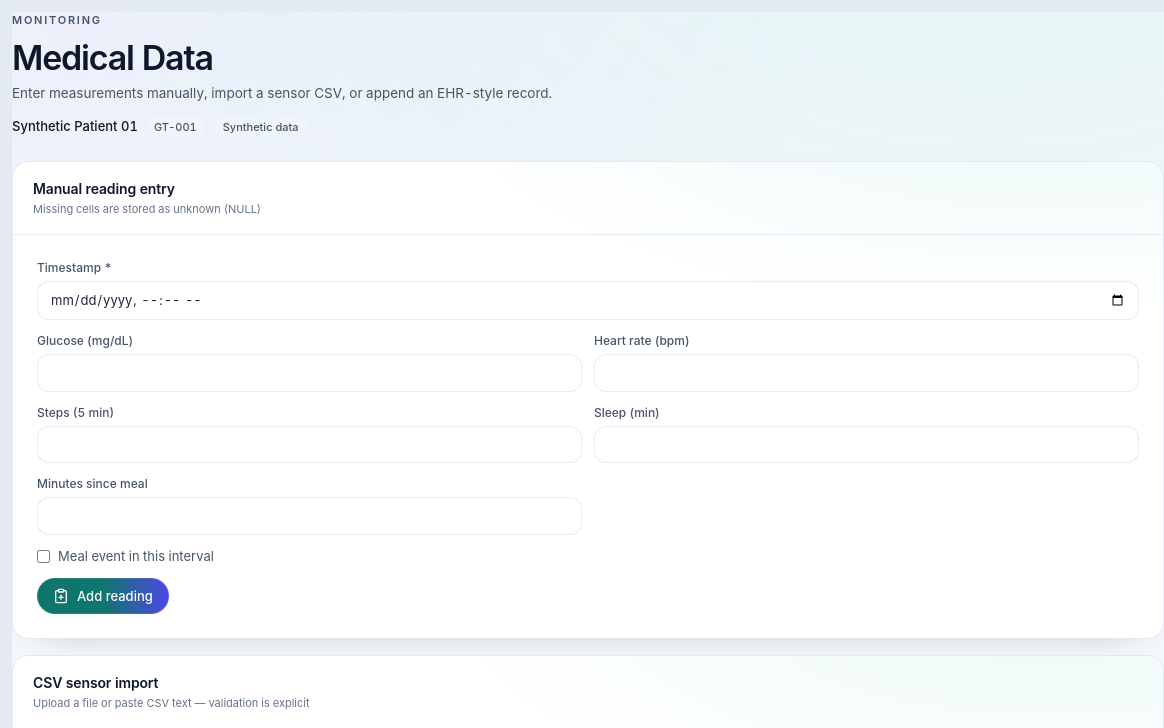
DataEntry (manual + CSV import) › requires a timestamp before saving a manual reading
The image size is (1164, 728).
Click the button "Add reading" at (103, 596), box [37,578,169,614]
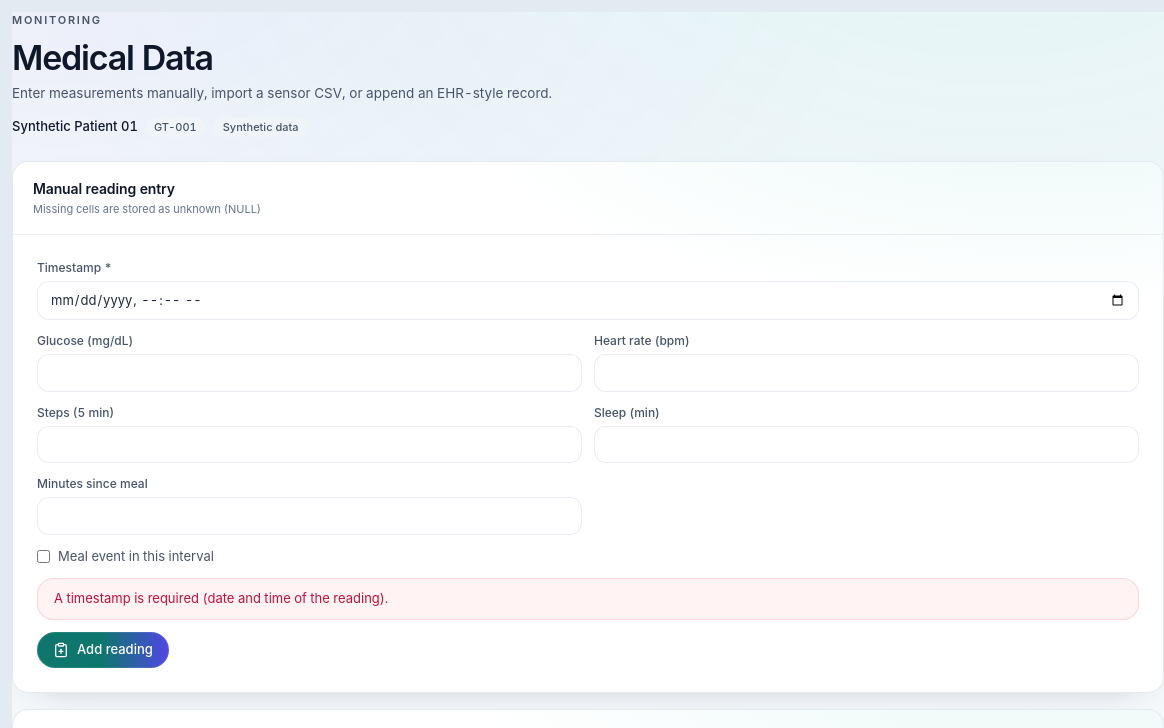
Expected: the text "A timestamp is required (date and time of the reading)." is shown, [54,589,388,609]
